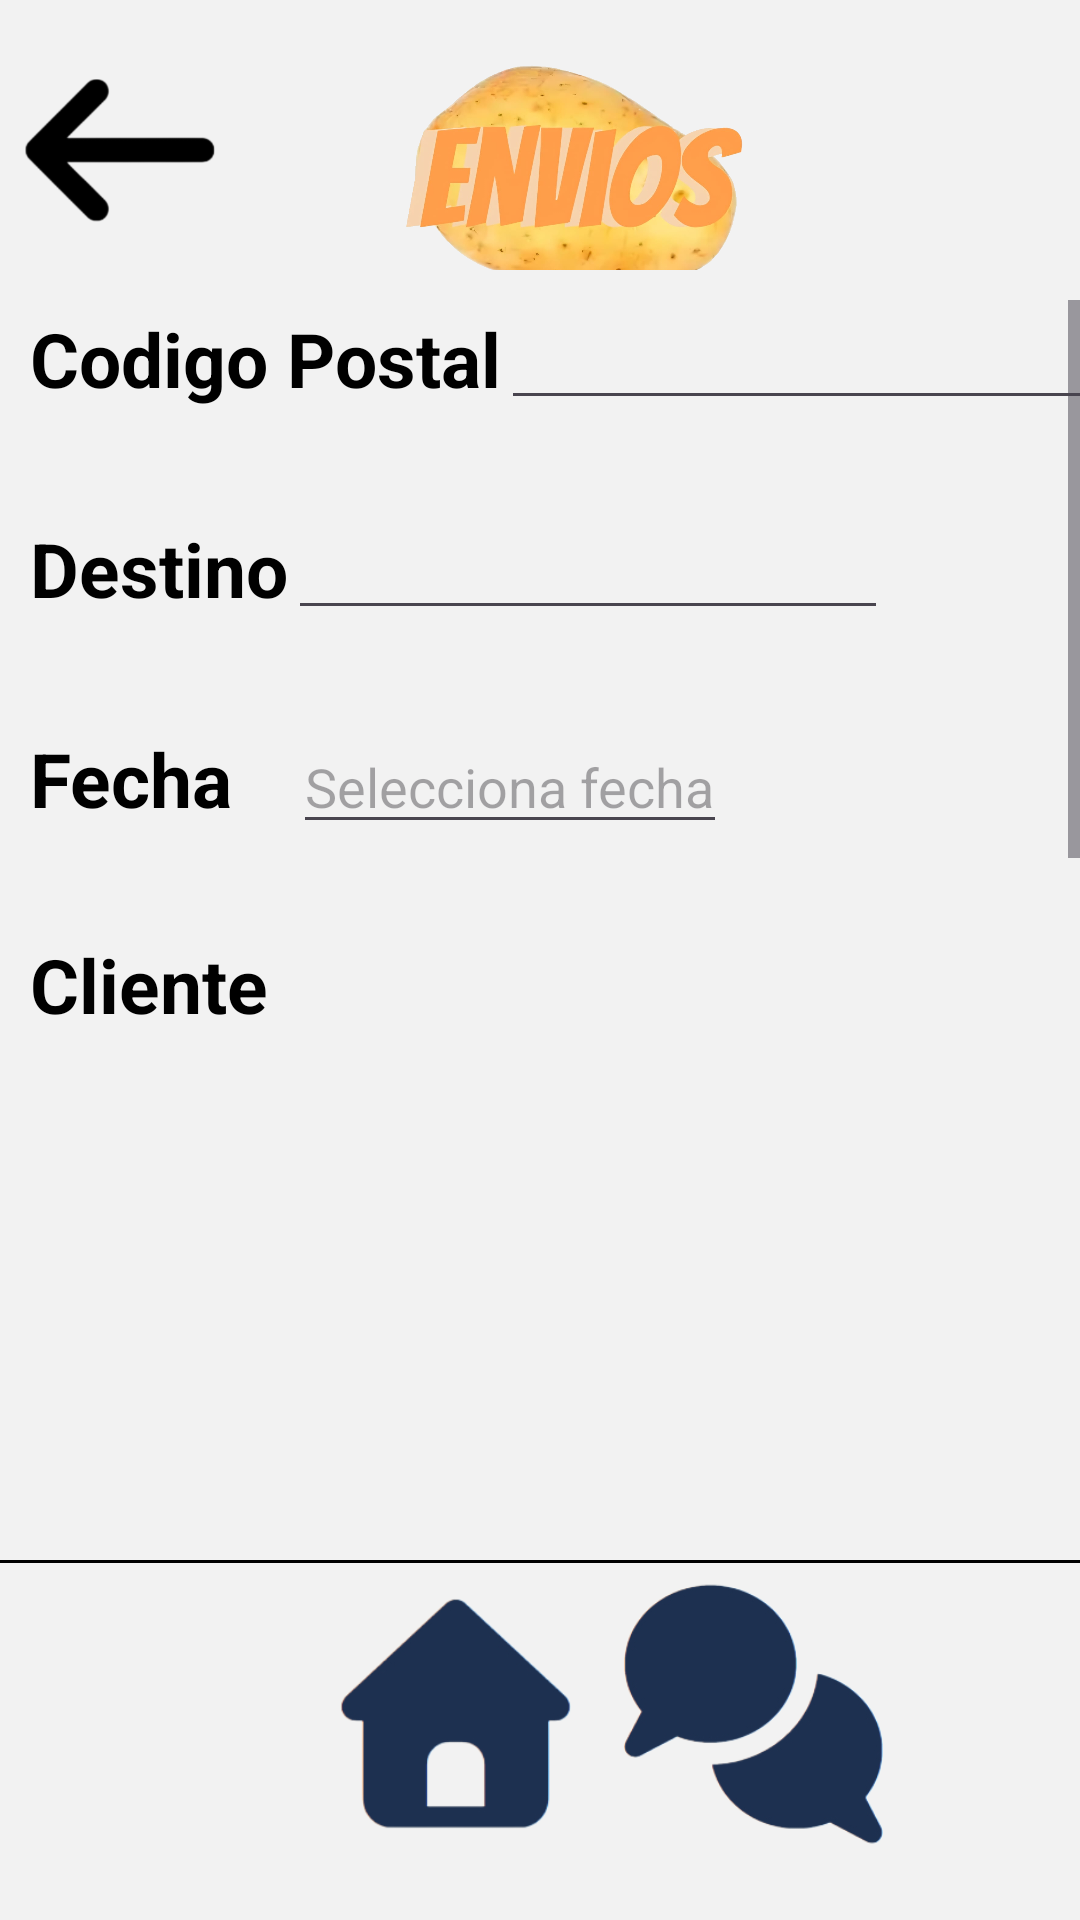

Where to tap for icons on this 1080 x 1920 app screen, as (x,y):
casita: (456,1713)
flecha: (120,150)
mensajitos: (753,1714)
